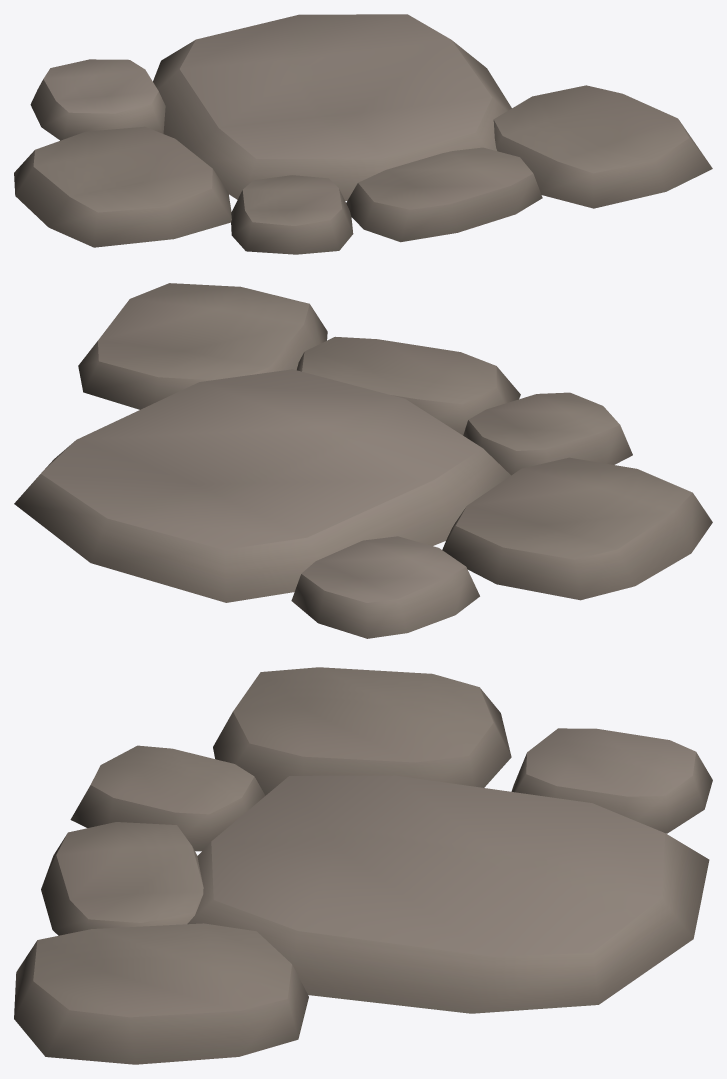
The model's file is elf_rock_big.fbx.
3 renders of one model, top to bottom at view 1: azimuth 30°, elevation 25°; view 2: azimuth 150°, elevation 25°; view 3: azimuth 270°, elevation 25°, orthographic. The views are drawn at different scales.
Visible parts, largest first — view 1: elf_rock_big; view 2: elf_rock_big; view 3: elf_rock_big.
Boxes of the visible parts, x1,y1,x2,y2 form: elf_rock_big: (14, 14, 712, 254); elf_rock_big: (14, 283, 712, 638); elf_rock_big: (14, 667, 712, 1064).
Size of the model in its own units: 3.53 by 0.2073 by 2.81.
